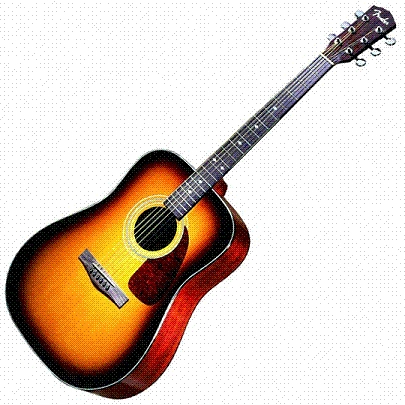guitar: (8, 3, 395, 399)
